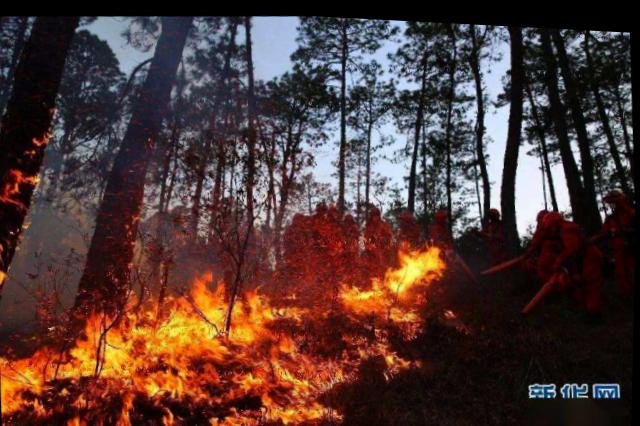fire: (0, 114, 462, 423)
